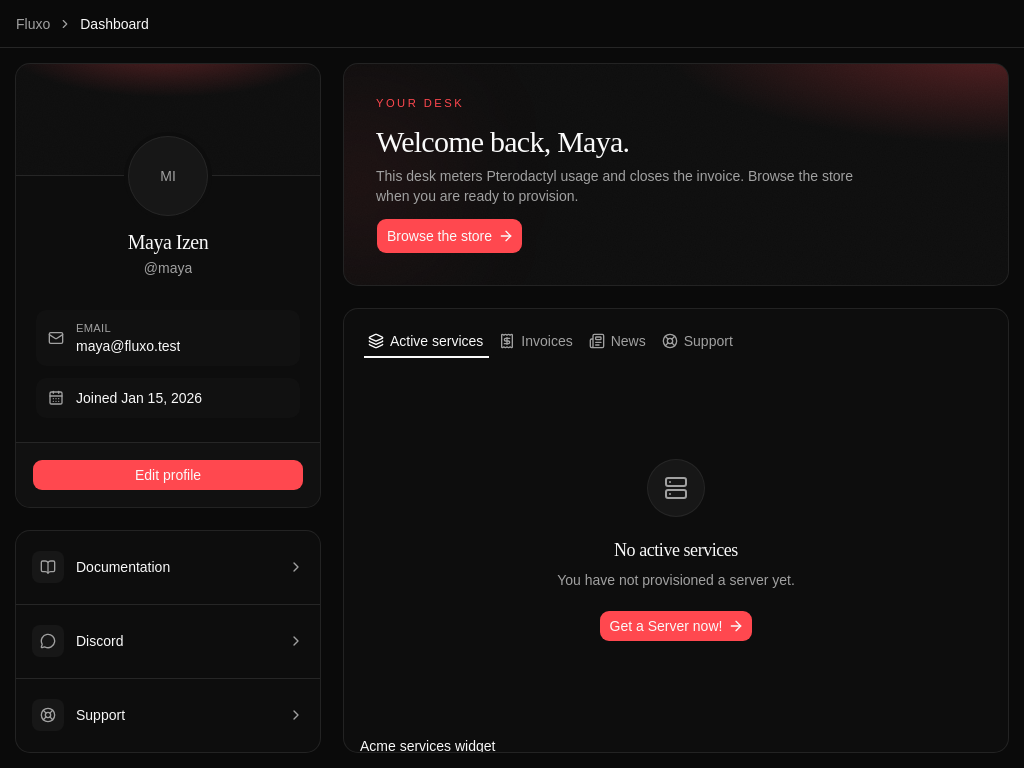
it: Dashboard page › renders panel plugin contributions in dashboard tabs
Check: the text "Acme services widget" is shown, box x1=360 y1=738 x2=495 y2=752
Check: the text "Acme invoices widget" is not shown
Step 1. Click the tab "Invoices" → (537, 341), box x1=494 y1=329 x2=580 y2=354
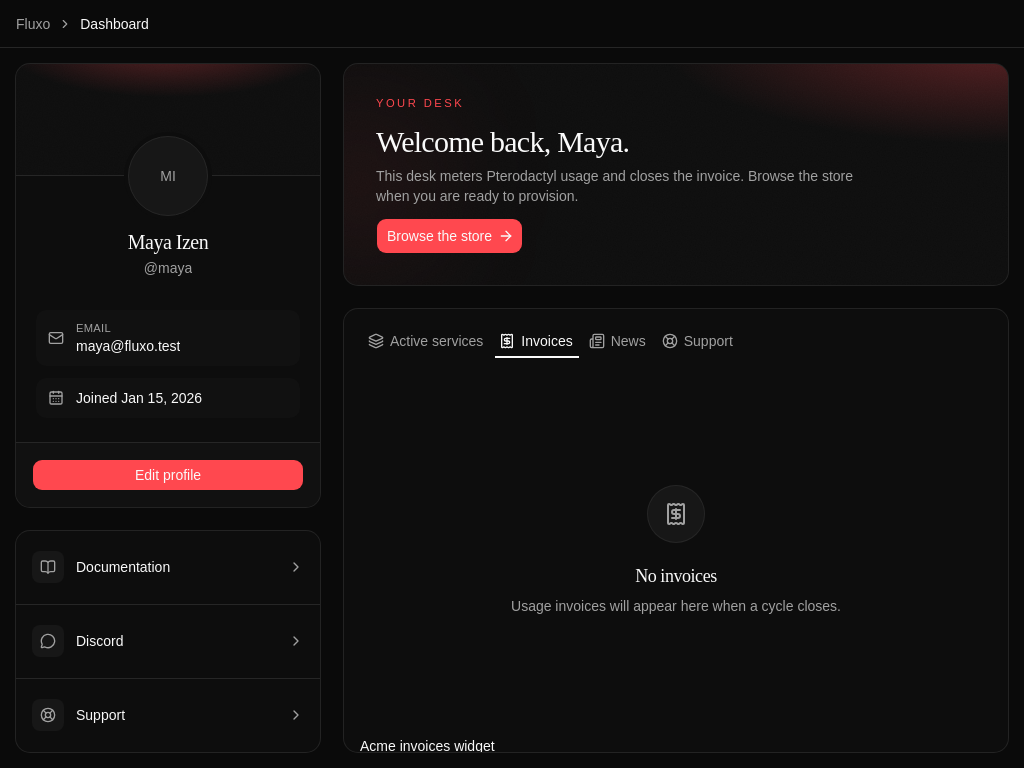
Check: the text "Acme invoices widget" is shown, box x1=360 y1=738 x2=495 y2=752
